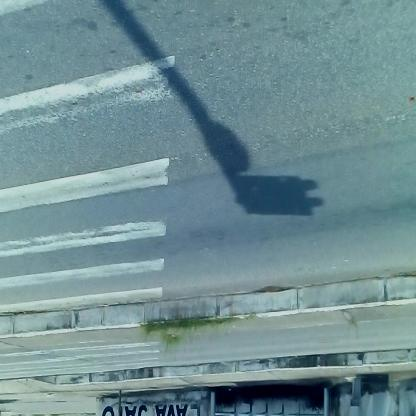crosswalk: (1, 31, 174, 303)
sidewalk: (9, 364, 415, 387)
